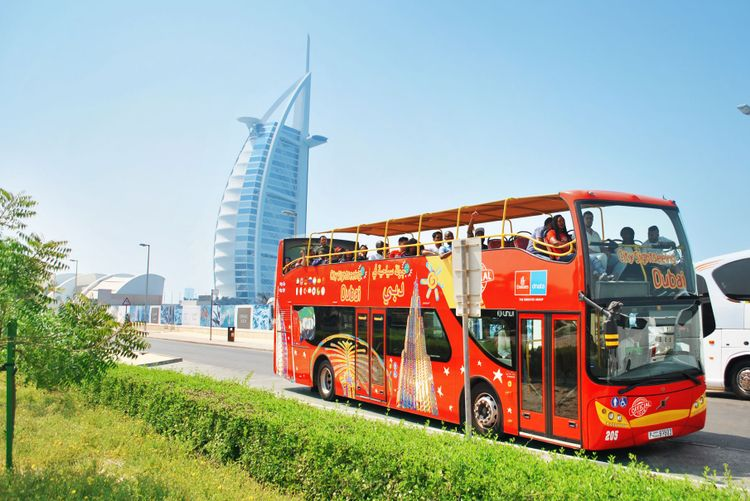bus: (275, 188, 708, 454)
